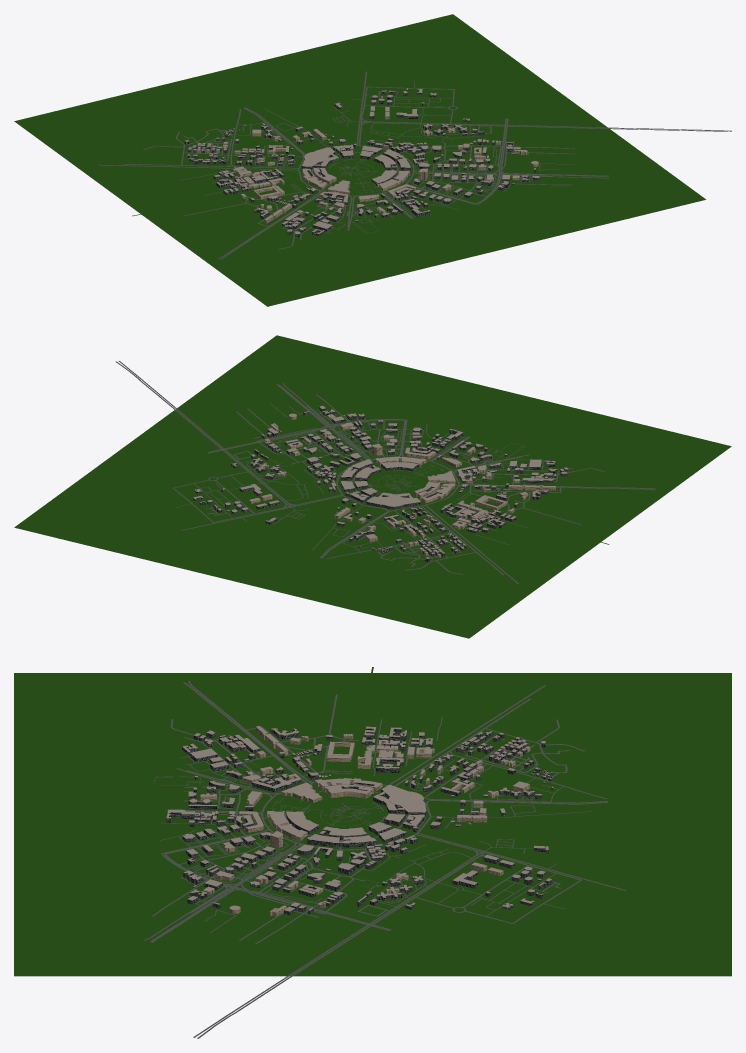
File: cityblend.glb
The picture shows the model from 3 angles, top to bottom: view 1: azimuth 30°, elevation 25°; view 2: azimuth 150°, elevation 25°; view 3: azimuth 270°, elevation 25°; orthographic projection. The views are drawn at different scales.
Parts seen in each view (by area): view 1: Plane, map_6.osm_buildings, map_6.osm_buildings.001, map_6.osm_roads_secondary, map_6.osm_roads_residential, map_6.osm_roads_service, map_6.osm_roads_tertiary; view 2: Plane, map_6.osm_buildings, map_6.osm_buildings.001, map_6.osm_roads_secondary, map_6.osm_roads_residential, map_6.osm_roads_service, map_6.osm_roads_tertiary; view 3: Plane, map_6.osm_buildings, map_6.osm_buildings.001, map_6.osm_roads_secondary, map_6.osm_roads_residential, map_6.osm_roads_service, map_6.osm_roads_tertiary, map_6.osm_paths_footway.
Part boxes in pixels (bbox=[...]): Plane: bbox=[14, 14, 705, 306]; map_6.osm_buildings: bbox=[184, 88, 539, 236]; map_6.osm_buildings.001: bbox=[185, 88, 539, 233]; map_6.osm_roads_secondary: bbox=[98, 71, 731, 259]; map_6.osm_roads_residential: bbox=[143, 86, 608, 249]; map_6.osm_roads_service: bbox=[180, 80, 573, 233]; map_6.osm_roads_tertiary: bbox=[132, 89, 412, 216]; Plane: bbox=[14, 335, 731, 638]; map_6.osm_buildings: bbox=[193, 407, 568, 562]; map_6.osm_buildings.001: bbox=[193, 405, 568, 558]; map_6.osm_roads_secondary: bbox=[115, 361, 655, 583]; map_6.osm_roads_residential: bbox=[173, 383, 604, 574]; map_6.osm_roads_service: bbox=[176, 403, 543, 551]; map_6.osm_roads_tertiary: bbox=[240, 461, 609, 544]; Plane: bbox=[14, 673, 731, 976]; map_6.osm_buildings: bbox=[166, 727, 553, 916]; map_6.osm_buildings.001: bbox=[166, 726, 553, 912]; map_6.osm_roads_secondary: bbox=[150, 681, 626, 1038]; map_6.osm_roads_residential: bbox=[144, 694, 606, 944]; map_6.osm_roads_service: bbox=[160, 716, 591, 932]; map_6.osm_roads_tertiary: bbox=[262, 667, 604, 863]; map_6.osm_paths_footway: bbox=[154, 762, 403, 887].
Bounding box in the file's own units: 3398 × 45.83 × 2773.
Materials: 11 (2 with a texture image).
